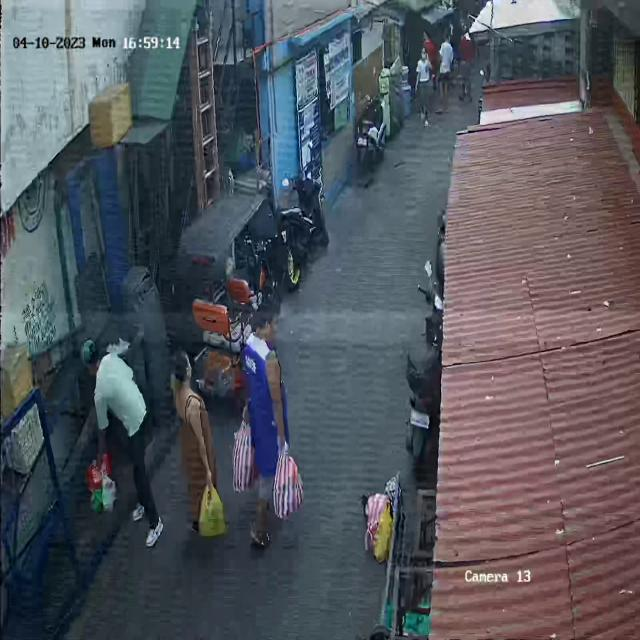garbage_dumping: (362, 462, 401, 565), (83, 451, 124, 514), (228, 408, 254, 495), (195, 483, 232, 544), (276, 443, 304, 519)
